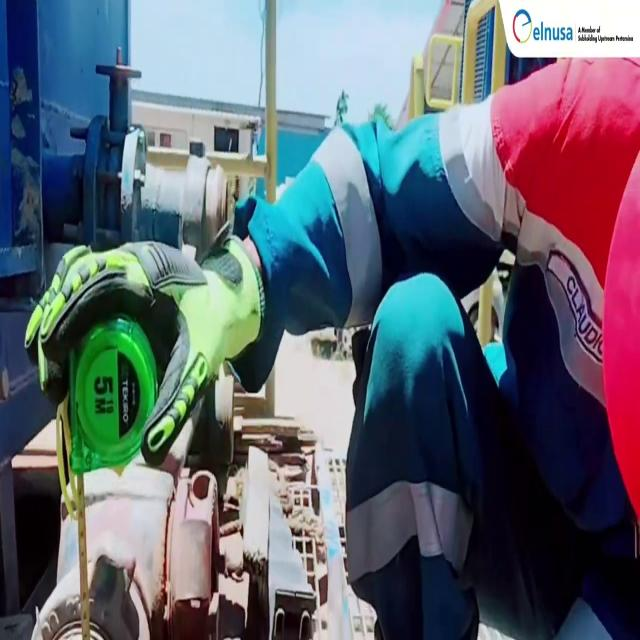Gloves: (24, 236, 262, 467)
Overall Suit: (257, 59, 640, 640)
